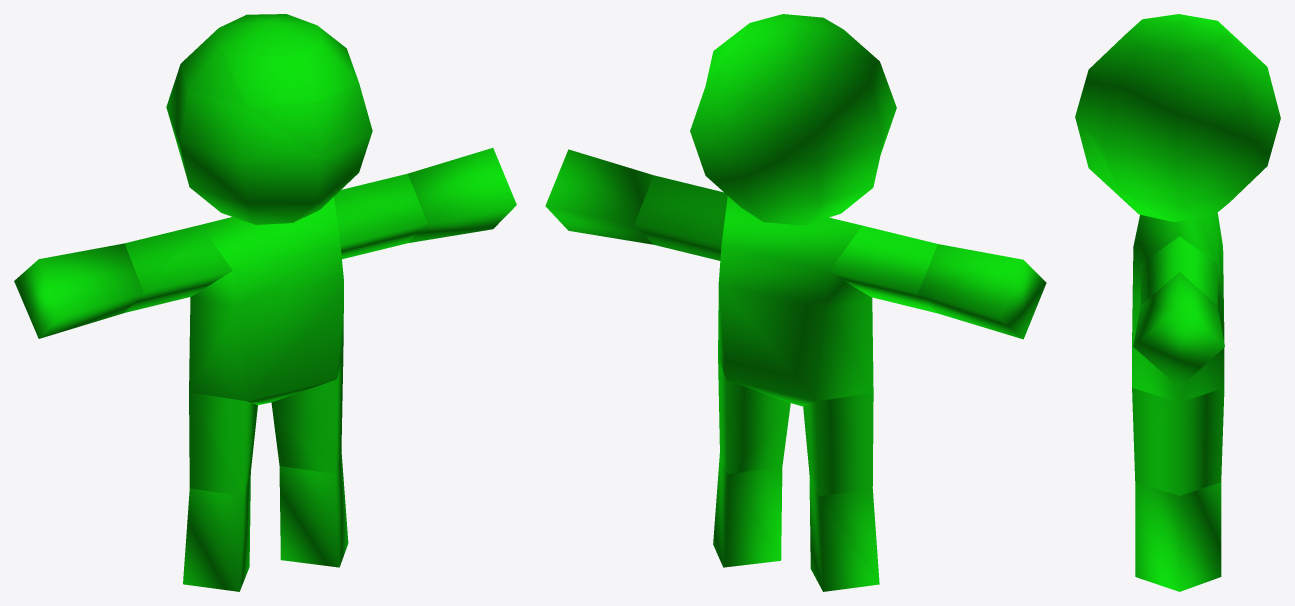
File: static.ico.obj
The picture shows the model from 3 angles, left to right: view 1: azimuth 30°, elevation 25°; view 2: azimuth 150°, elevation 25°; view 3: azimuth 270°, elevation 25°; orthographic projection.
Size of the model in its own units: 3.95 by 4.49 by 1.58.
Materials: 1 (1 with a texture image).
